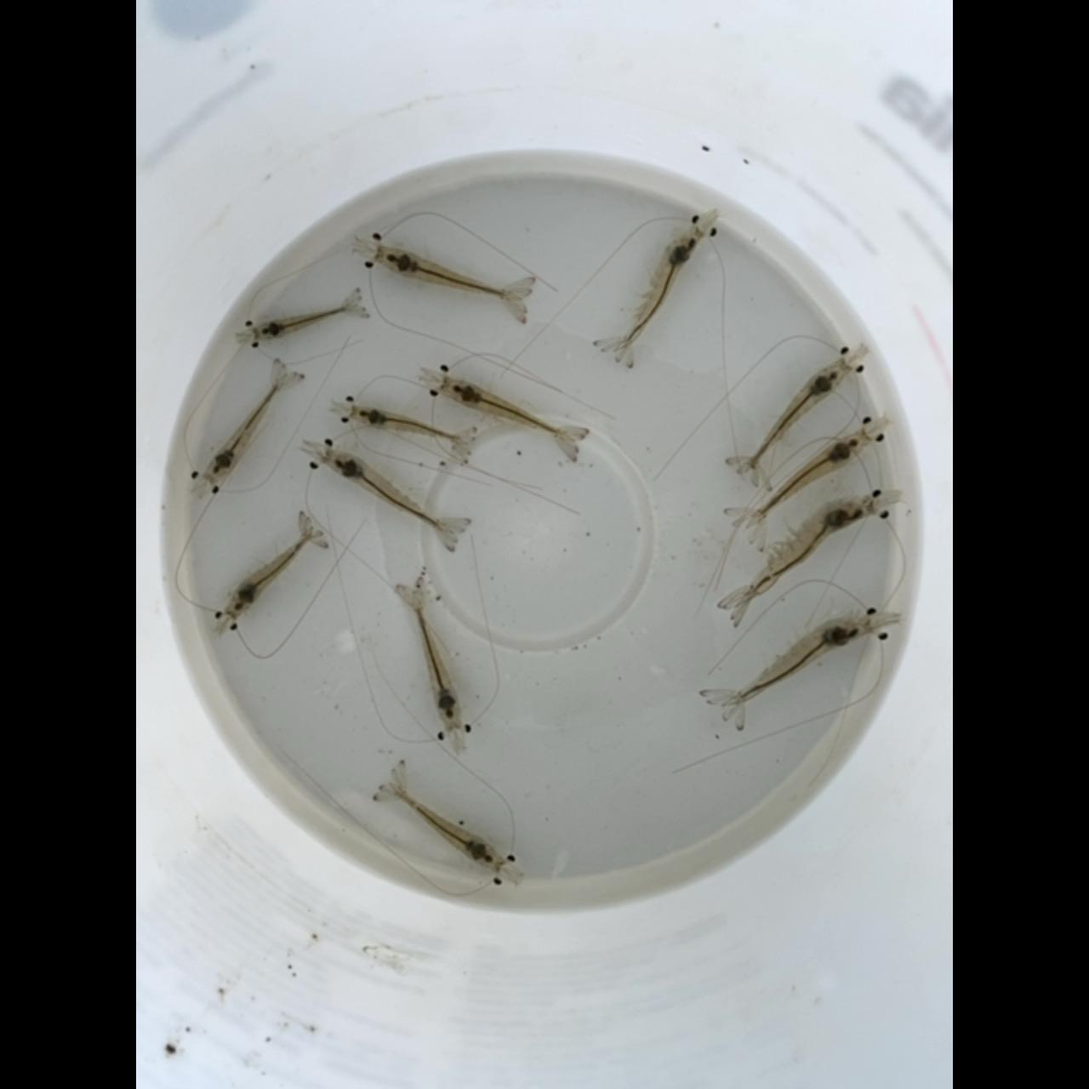top_shrimp: (734, 495, 875, 608), (720, 614, 871, 708), (745, 429, 869, 528), (744, 359, 848, 476), (322, 449, 456, 533), (613, 227, 701, 354), (388, 781, 501, 871), (204, 374, 288, 483), (440, 377, 579, 442), (377, 244, 529, 301), (226, 524, 315, 617), (413, 590, 461, 729), (348, 403, 471, 444), (253, 304, 361, 342)
